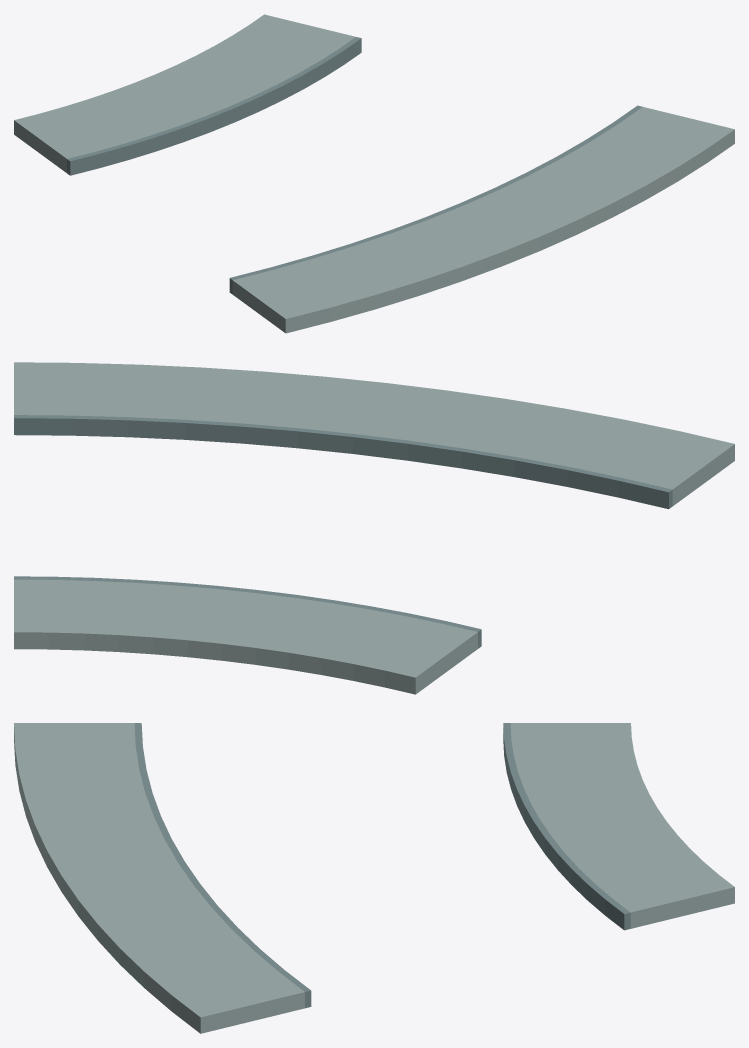
Rendered from RoadPlan_WalkCurve_2L_A30_R18.glb.
3 views of the same model, one above another, from view 1: azimuth 30°, elevation 25°; view 2: azimuth 150°, elevation 25°; view 3: azimuth 270°, elevation 25° (orthographic). The views are drawn at different scales.
Visible parts, largest first — view 1: RoadPlan_WalkCurve_2L_A30_R18_Paving_-1, RoadPlan_WalkCurve_2L_A30_R18_Paving_1, RoadPlan_WalkCurve_2L_A30_R18_Curb_1, RoadPlan_WalkCurve_2L_A30_R18_Curb_-1; view 2: RoadPlan_WalkCurve_2L_A30_R18_Paving_-1, RoadPlan_WalkCurve_2L_A30_R18_Paving_1, RoadPlan_WalkCurve_2L_A30_R18_Curb_-1, RoadPlan_WalkCurve_2L_A30_R18_Curb_1; view 3: RoadPlan_WalkCurve_2L_A30_R18_Paving_-1, RoadPlan_WalkCurve_2L_A30_R18_Paving_1, RoadPlan_WalkCurve_2L_A30_R18_Curb_1, RoadPlan_WalkCurve_2L_A30_R18_Curb_-1.
Part boxes in pixels (x1,y1,x2,y2): RoadPlan_WalkCurve_2L_A30_R18_Paving_-1: (232,107,734,333); RoadPlan_WalkCurve_2L_A30_R18_Paving_1: (14,14,355,172); RoadPlan_WalkCurve_2L_A30_R18_Curb_1: (67,37,361,175); RoadPlan_WalkCurve_2L_A30_R18_Curb_-1: (229,105,642,294); RoadPlan_WalkCurve_2L_A30_R18_Paving_-1: (14,362,734,505); RoadPlan_WalkCurve_2L_A30_R18_Paving_1: (14,579,477,694); RoadPlan_WalkCurve_2L_A30_R18_Curb_-1: (14,415,672,509); RoadPlan_WalkCurve_2L_A30_R18_Curb_1: (14,576,481,648); RoadPlan_WalkCurve_2L_A30_R18_Paving_-1: (14,723,304,1033); RoadPlan_WalkCurve_2L_A30_R18_Paving_1: (510,723,734,928); RoadPlan_WalkCurve_2L_A30_R18_Curb_1: (503,723,630,930); RoadPlan_WalkCurve_2L_A30_R18_Curb_-1: (134,723,311,1008).
Bounding box in the file's own units: 11.56 × 0.3 × 11.97.
